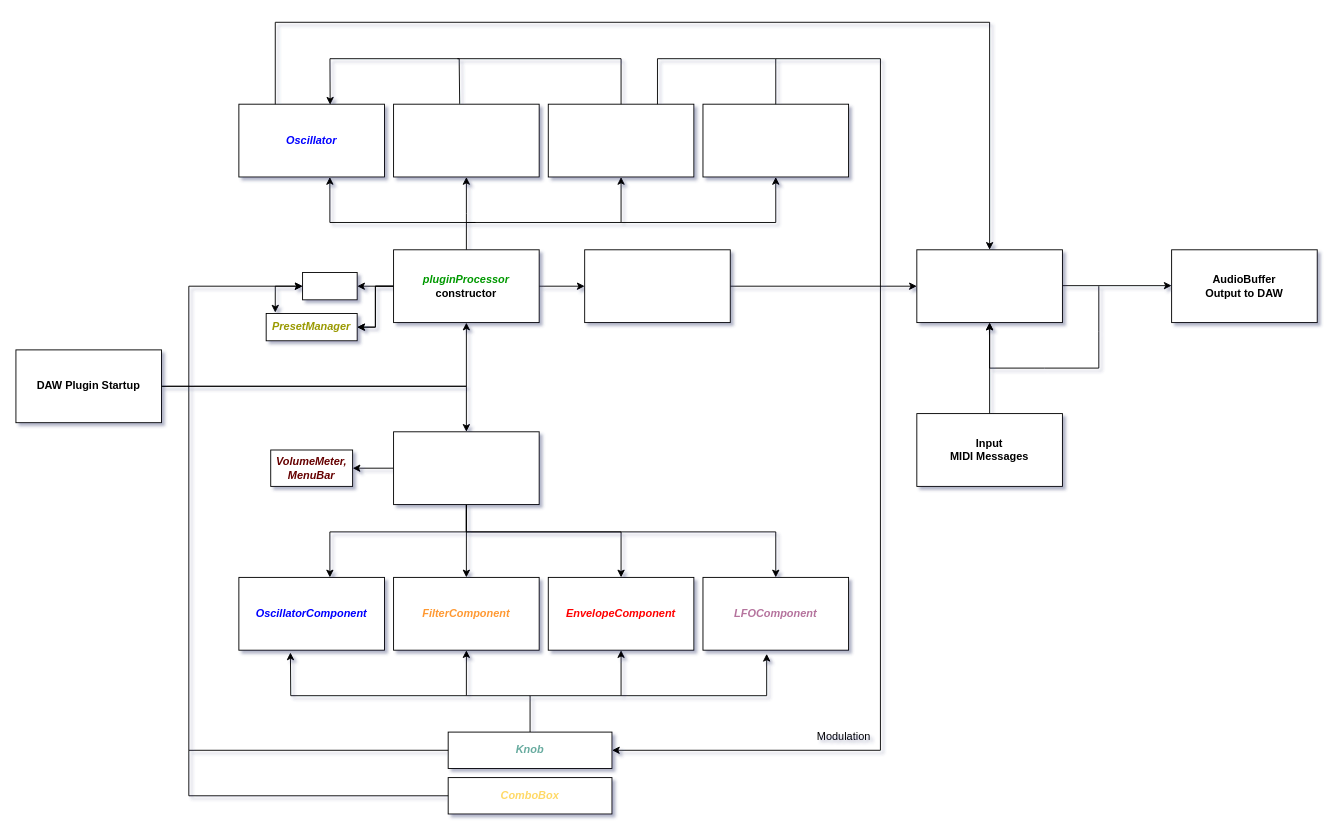
This 1339x835 diagram has some shape labels left out. Here are the shapes that lost their labels. From the top down, the centre of each, then its label:
At pixel 466 140: "Filter, TalkboxFilter".
At pixel 620 140: "Envelope".
At pixel 775 140: "LFO".
At pixel 329 286: "APVTS".
At pixel 657 286: "pluginProcessor prepareToPlay".
At pixel 989 286: "pluginProcessor processBlock".
At pixel 466 468: "pluginEditor constructor".
